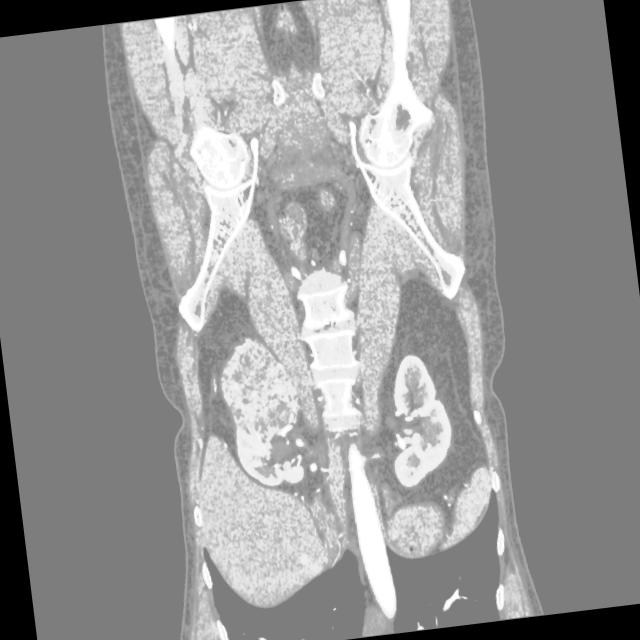TUMOR: (179, 228, 535, 505)
